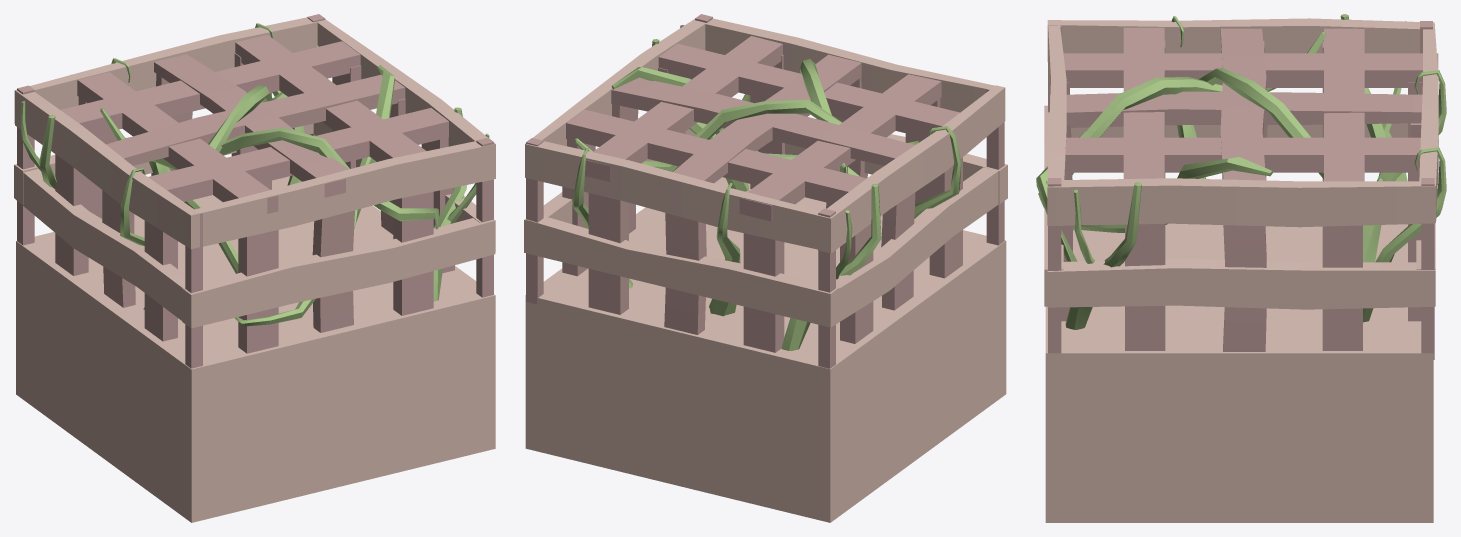
File: vine.fbx
The picture shows the model from 3 angles, left to right: view 1: azimuth 30°, elevation 25°; view 2: azimuth 150°, elevation 25°; view 3: azimuth 270°, elevation 25°; orthographic projection. The views are drawn at different scales.
Parts seen in each view (by area): view 1: polySurface37; view 2: polySurface37; view 3: polySurface37.
Boxes of the visible parts, <box> form: polySurface37: <box>14,14,495,522</box>; polySurface37: <box>524,14,1007,522</box>; polySurface37: <box>1036,14,1446,522</box>.
Bounding box in the file's own units: 2.17 × 2.03 × 2.12.
